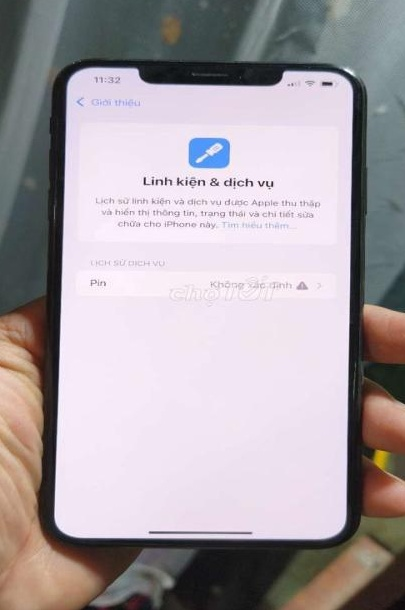scratch: (57, 42, 92, 81)
